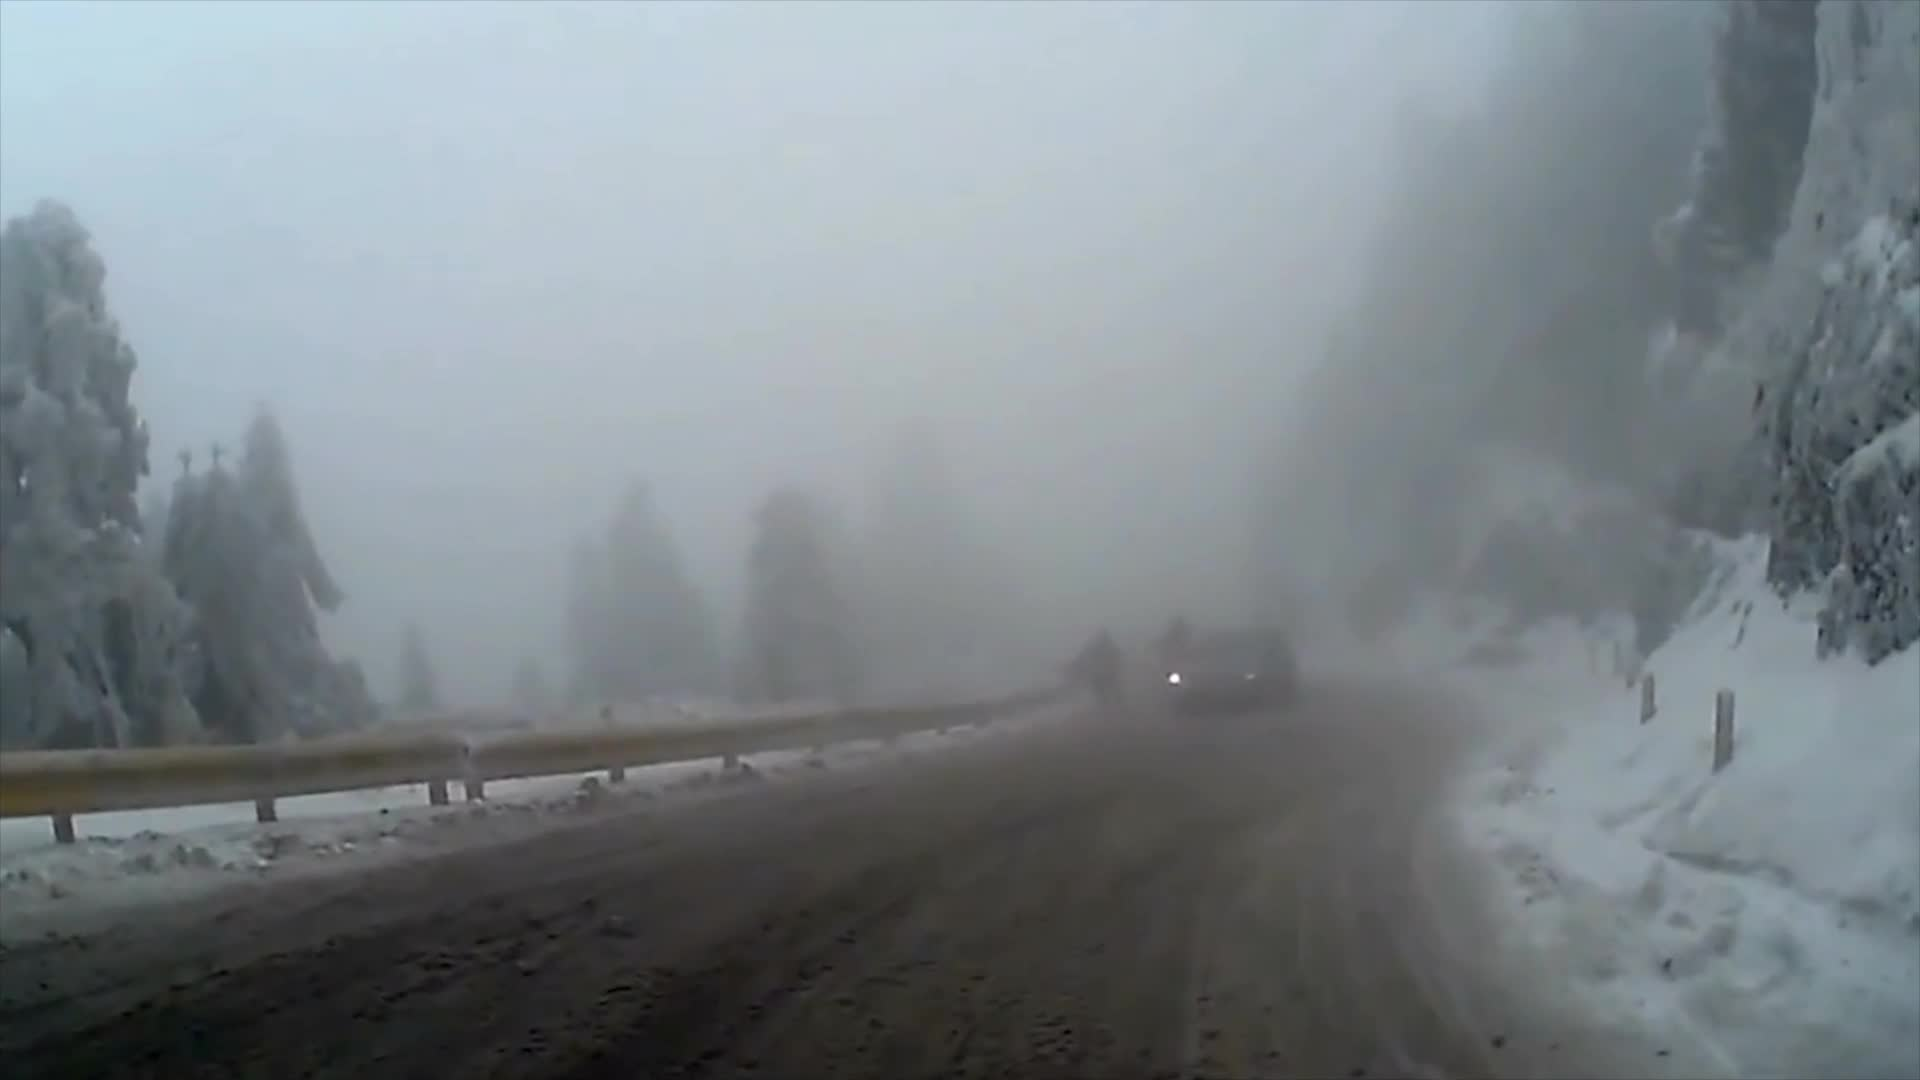vehicle: (1159, 624, 1298, 713)
